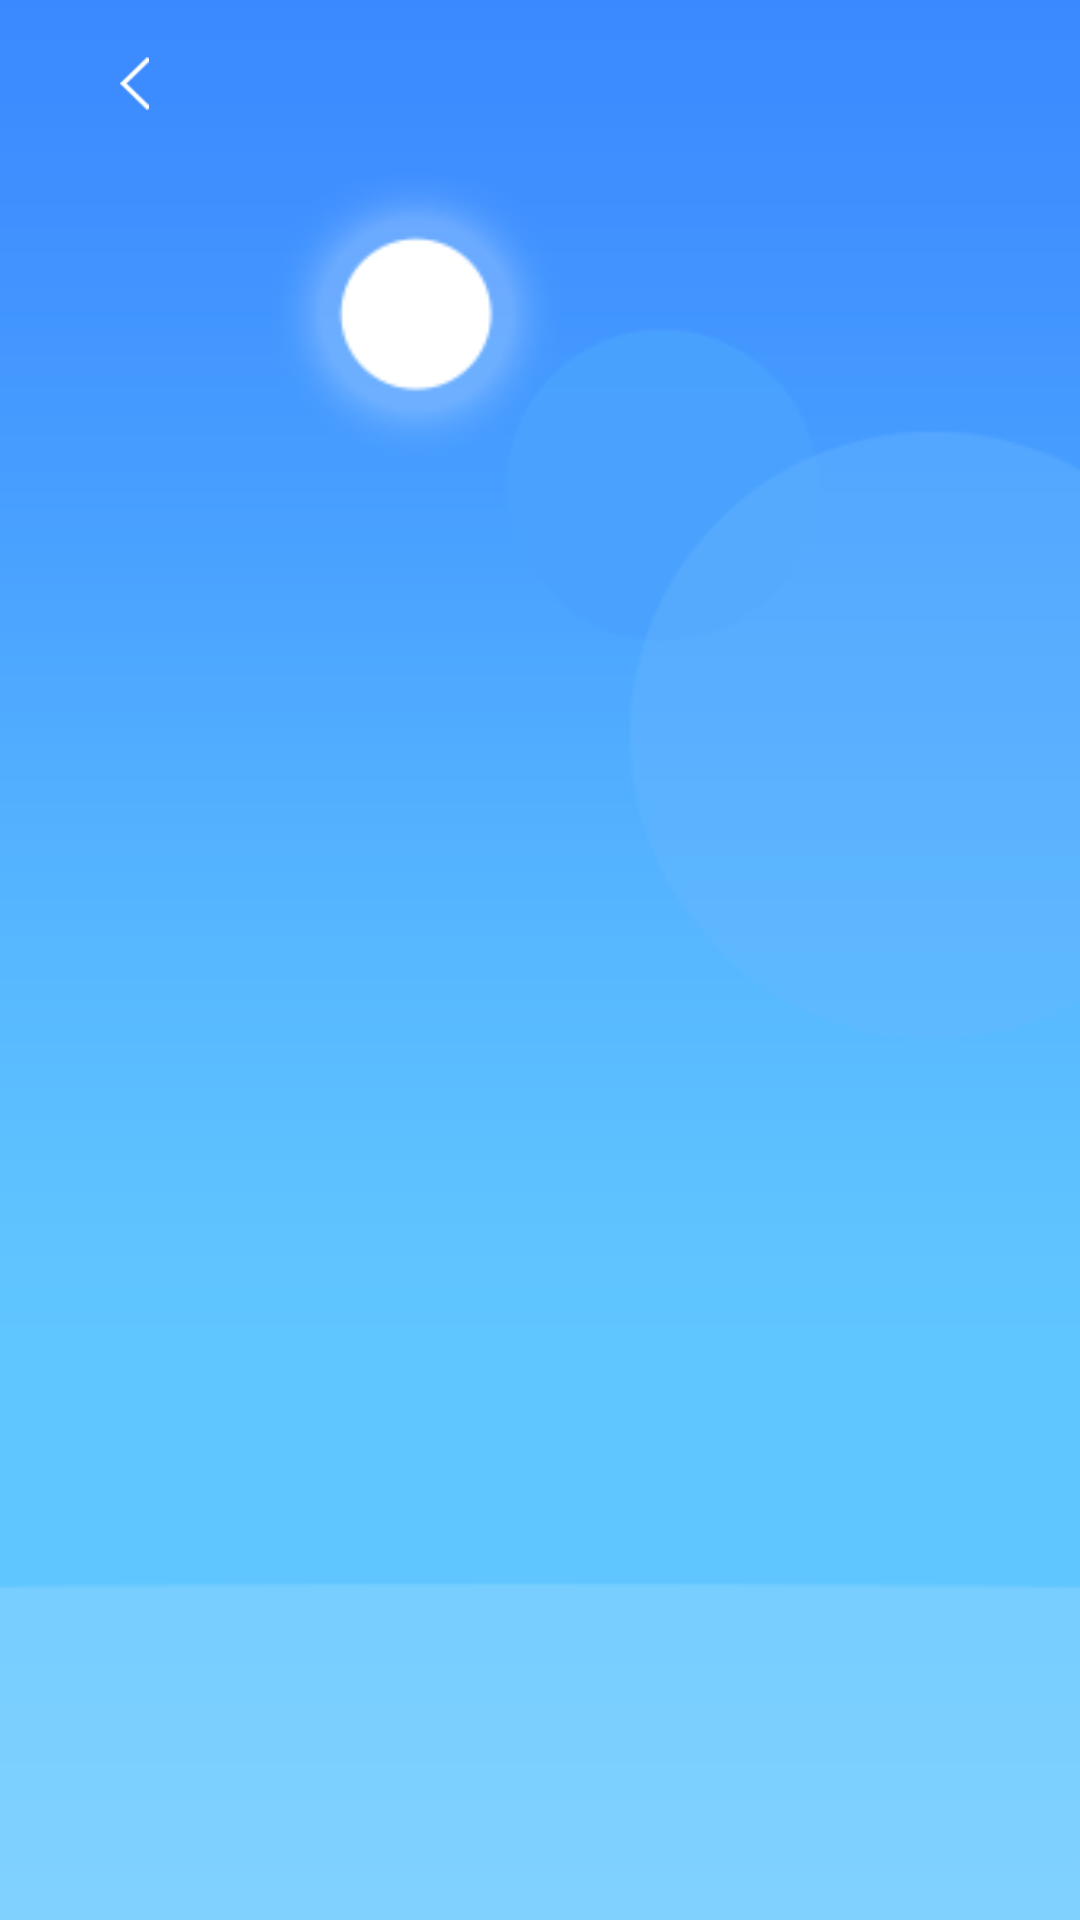

Where icons sit on this 1080*1920 app screen, as (x1, y1, x2, y2):
weather back: (120, 57, 149, 110)
